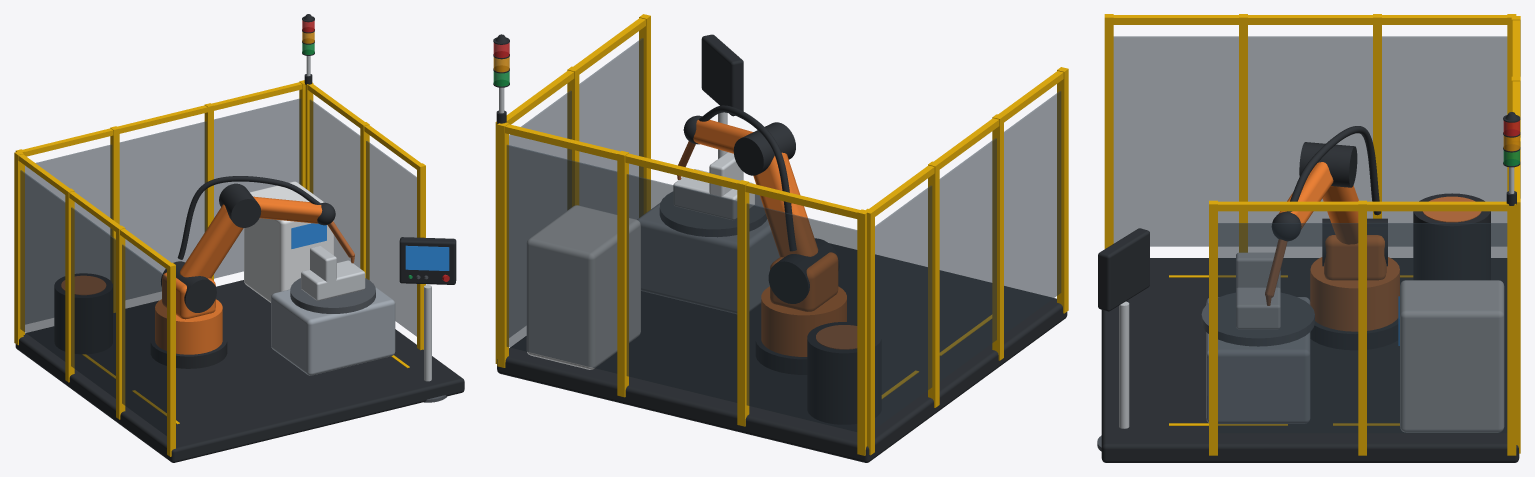
Rendered from welding-robot.glb.
3 views of the same model, side by side, from view 1: azimuth 30°, elevation 25°; view 2: azimuth 150°, elevation 25°; view 3: azimuth 270°, elevation 25° (orthographic). The views are drawn at different scales.
Visible parts, largest first — view 1: welding_robot_glass_tint, welding_robot_graphite, welding_robot_safety_yellow, welding_robot_paint_grey, welding_robot_robot_orange, welding_robot_paint_white, welding_robot_steel, welding_robot_screen, welding_robot_dark_steel, welding_robot_copper; view 2: welding_robot_glass_tint, welding_robot_graphite, welding_robot_safety_yellow, welding_robot_paint_white, welding_robot_robot_orange, welding_robot_paint_grey, welding_robot_steel, welding_robot_dark_steel, welding_robot_copper; view 3: welding_robot_glass_tint, welding_robot_graphite, welding_robot_safety_yellow, welding_robot_paint_white, welding_robot_robot_orange, welding_robot_paint_grey, welding_robot_steel, welding_robot_dark_steel, welding_robot_copper.
Part boxes in pixels (x1,y1,x2,y2): welding_robot_glass_tint: (20, 98, 416, 435); welding_robot_graphite: (15, 14, 464, 462); welding_robot_safety_yellow: (14, 80, 425, 456); welding_robot_paint_grey: (271, 287, 395, 375); welding_robot_robot_orange: (155, 196, 322, 354); welding_robot_paint_white: (244, 181, 333, 302); welding_robot_steel: (301, 56, 431, 381); welding_robot_screen: (291, 223, 449, 270); welding_robot_dark_steel: (290, 275, 446, 402); welding_robot_copper: (61, 221, 354, 295); welding_robot_glass_tint: (506, 38, 1061, 431); welding_robot_graphite: (493, 34, 1067, 462); welding_robot_safety_yellow: (495, 14, 1068, 455); welding_robot_paint_white: (526, 205, 640, 369); welding_robot_robot_orange: (693, 119, 846, 356); welding_robot_paint_grey: (637, 203, 779, 313); welding_robot_steel: (499, 87, 754, 220); welding_robot_dark_steel: (659, 191, 767, 237); welding_robot_copper: (677, 141, 857, 349); welding_robot_glass_tint: (1113, 36, 1507, 433); welding_robot_graphite: (1098, 112, 1520, 462); welding_robot_safety_yellow: (1104, 14, 1520, 455); welding_robot_paint_white: (1400, 280, 1504, 432); welding_robot_robot_orange: (1278, 162, 1399, 331); welding_robot_paint_grey: (1206, 297, 1310, 423); welding_robot_steel: (1119, 167, 1514, 428); welding_robot_dark_steel: (1097, 292, 1314, 451); welding_robot_copper: (1265, 196, 1481, 305).
Size of the model in its own units: 3.05 by 2.59 by 2.84.
